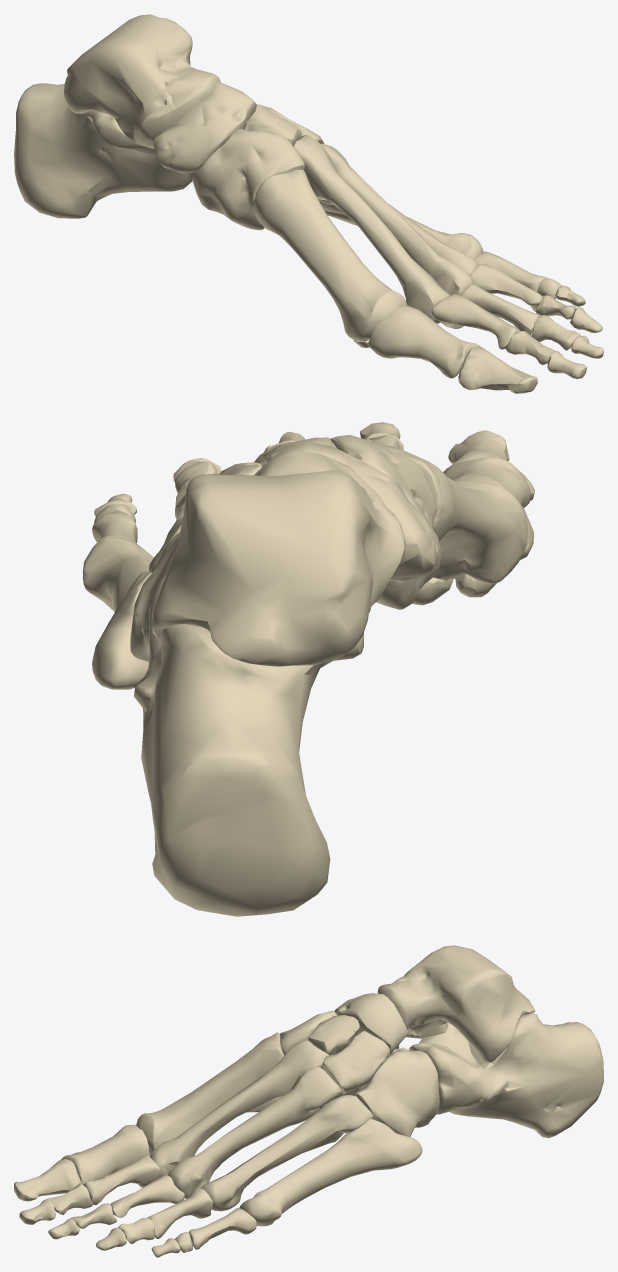
The model's file is footb.glb.
The picture shows the model from 3 angles, top to bottom: view 1: azimuth 30°, elevation 25°; view 2: azimuth 150°, elevation 25°; view 3: azimuth 270°, elevation 25°; orthographic projection. The views are drawn at different scales.
Visible parts, largest first — view 1: left calcaneus, left talus, left first metatarsal bone, left medial cuneiform bone, left second metatarsal bone, navicular bone of left foot, proximal phalanx of left big toe, left third metatarsal bone, distal phalanx of left big toe, proximal phalanx of left second toe, proximal phalanx of left third toe, proximal phalanx of left fourth toe (+8 smaller); view 2: left calcaneus, left talus, left first metatarsal bone, left fifth metatarsal bone, navicular bone of left foot, left medial cuneiform bone, proximal phalanx of left big toe, left cuboid bone, distal phalanx of left big toe, proximal phalanx of left little toe, middle phalanx of left fourth toe, sesamoid bone of left foot (2); view 3: left calcaneus, left talus, left fifth metatarsal bone, left third metatarsal bone, left fourth metatarsal bone, left cuboid bone, left first metatarsal bone, left second metatarsal bone, proximal phalanx of left big toe, left lateral cuneiform bone, navicular bone of left foot, distal phalanx of left big toe (+11 smaller).
Boxes of the visible parts, box(x1,y1,x2,y2) form: left calcaneus: box(14, 83, 195, 218); left talus: box(64, 14, 220, 148); left first metatarsal bone: box(253, 169, 407, 341); left medial cuneiform bone: box(192, 128, 304, 230); left second metatarsal bone: box(293, 134, 450, 323); navicular bone of left foot: box(153, 82, 256, 172); proximal phalanx of left big toe: box(368, 304, 480, 378); left third metatarsal bone: box(318, 143, 474, 295); distal phalanx of left big toe: box(458, 346, 537, 393); proximal phalanx of left second toe: box(431, 294, 519, 349); proximal phalanx of left third toe: box(461, 284, 540, 334); proximal phalanx of left fourth toe: box(470, 264, 542, 311); left calcaneus: box(134, 573, 363, 916); left talus: box(152, 450, 405, 666); left first metatarsal bone: box(381, 445, 527, 583); left fifth metatarsal bone: box(82, 534, 153, 689); navicular bone of left foot: box(254, 442, 438, 581); left medial cuneiform bone: box(330, 435, 441, 609); proximal phalanx of left big toe: box(443, 457, 533, 560); left cuboid bone: box(130, 532, 179, 662); distal phalanx of left big toe: box(443, 430, 534, 500); proximal phalanx of left little toe: box(92, 513, 137, 543); middle phalanx of left fourth toe: box(175, 461, 217, 506); sesamoid bone of left foot (2): box(412, 577, 453, 605); left calcaneus: box(409, 1013, 603, 1137); left talus: box(377, 945, 535, 1062); left fifth metatarsal bone: box(239, 1119, 422, 1226); left third metatarsal bone: box(168, 1066, 342, 1198); left fourth metatarsal bone: box(200, 1094, 373, 1211); left cuboid bone: box(353, 1047, 439, 1136); left first metatarsal bone: box(136, 1032, 284, 1155); left second metatarsal bone: box(150, 1040, 328, 1178); proximal phalanx of left big toe: box(61, 1124, 149, 1184); left lateral cuneiform bone: box(322, 1031, 390, 1095); navicular bone of left foot: box(334, 993, 408, 1055); distal phalanx of left big toe: box(14, 1159, 81, 1201).
Bounding box in the file's own units: 0.1243 × 0.0736 × 0.2117.
